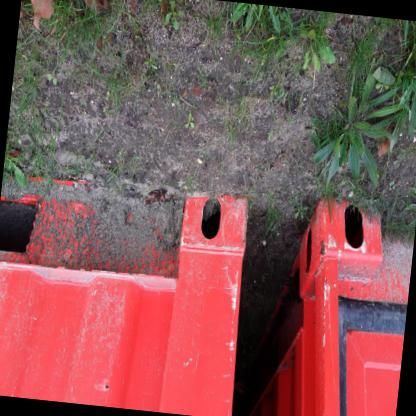CornerCasting: (292, 196, 388, 310), (176, 186, 252, 259)
